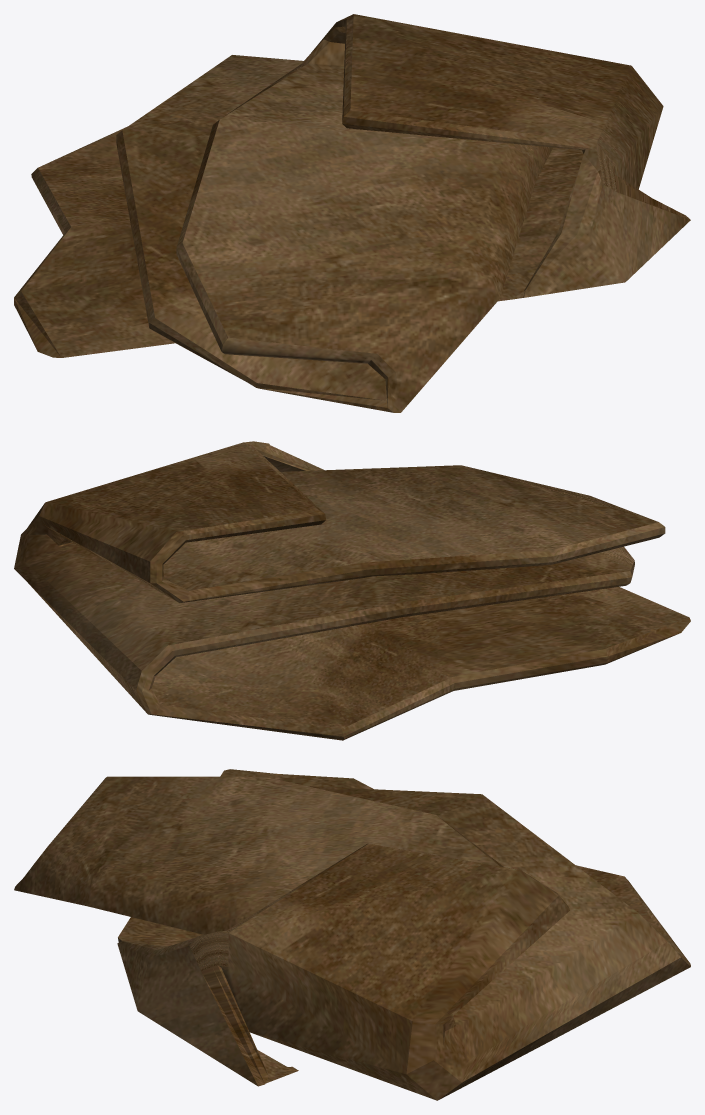
The model's file is leather.obj.
3 views of the same model, one above another, from view 1: azimuth 30°, elevation 25°; view 2: azimuth 150°, elevation 25°; view 3: azimuth 270°, elevation 25° (orthographic). The views are drawn at different scales.
Visible parts, largest first — view 1: Mesh; view 2: Mesh; view 3: Mesh.
Part boxes in pixels (x1,y1,x2,y2): Mesh: (14, 14, 690, 412); Mesh: (14, 441, 690, 740); Mesh: (14, 769, 690, 1100).
Size of the model in its own units: 0.3001 by 0.0634 by 0.2749.
